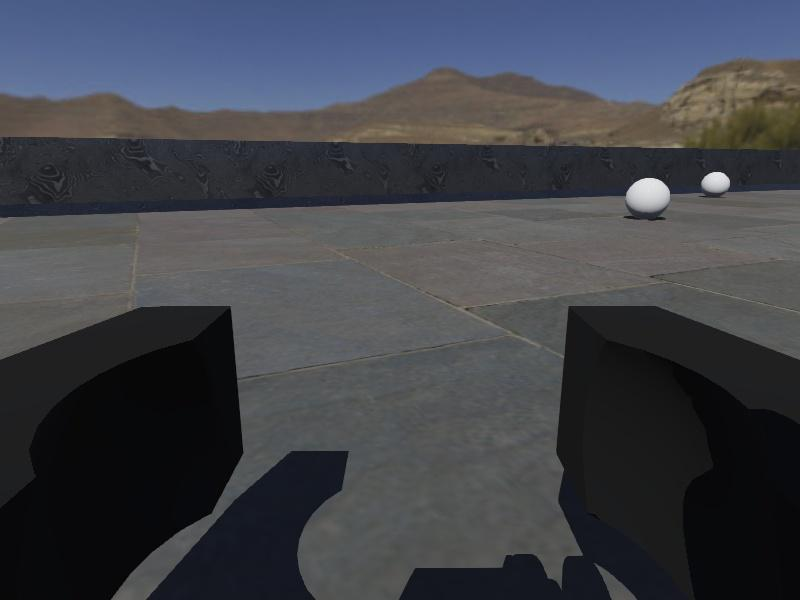white ball: (625, 177, 672, 219), (701, 171, 732, 198)
